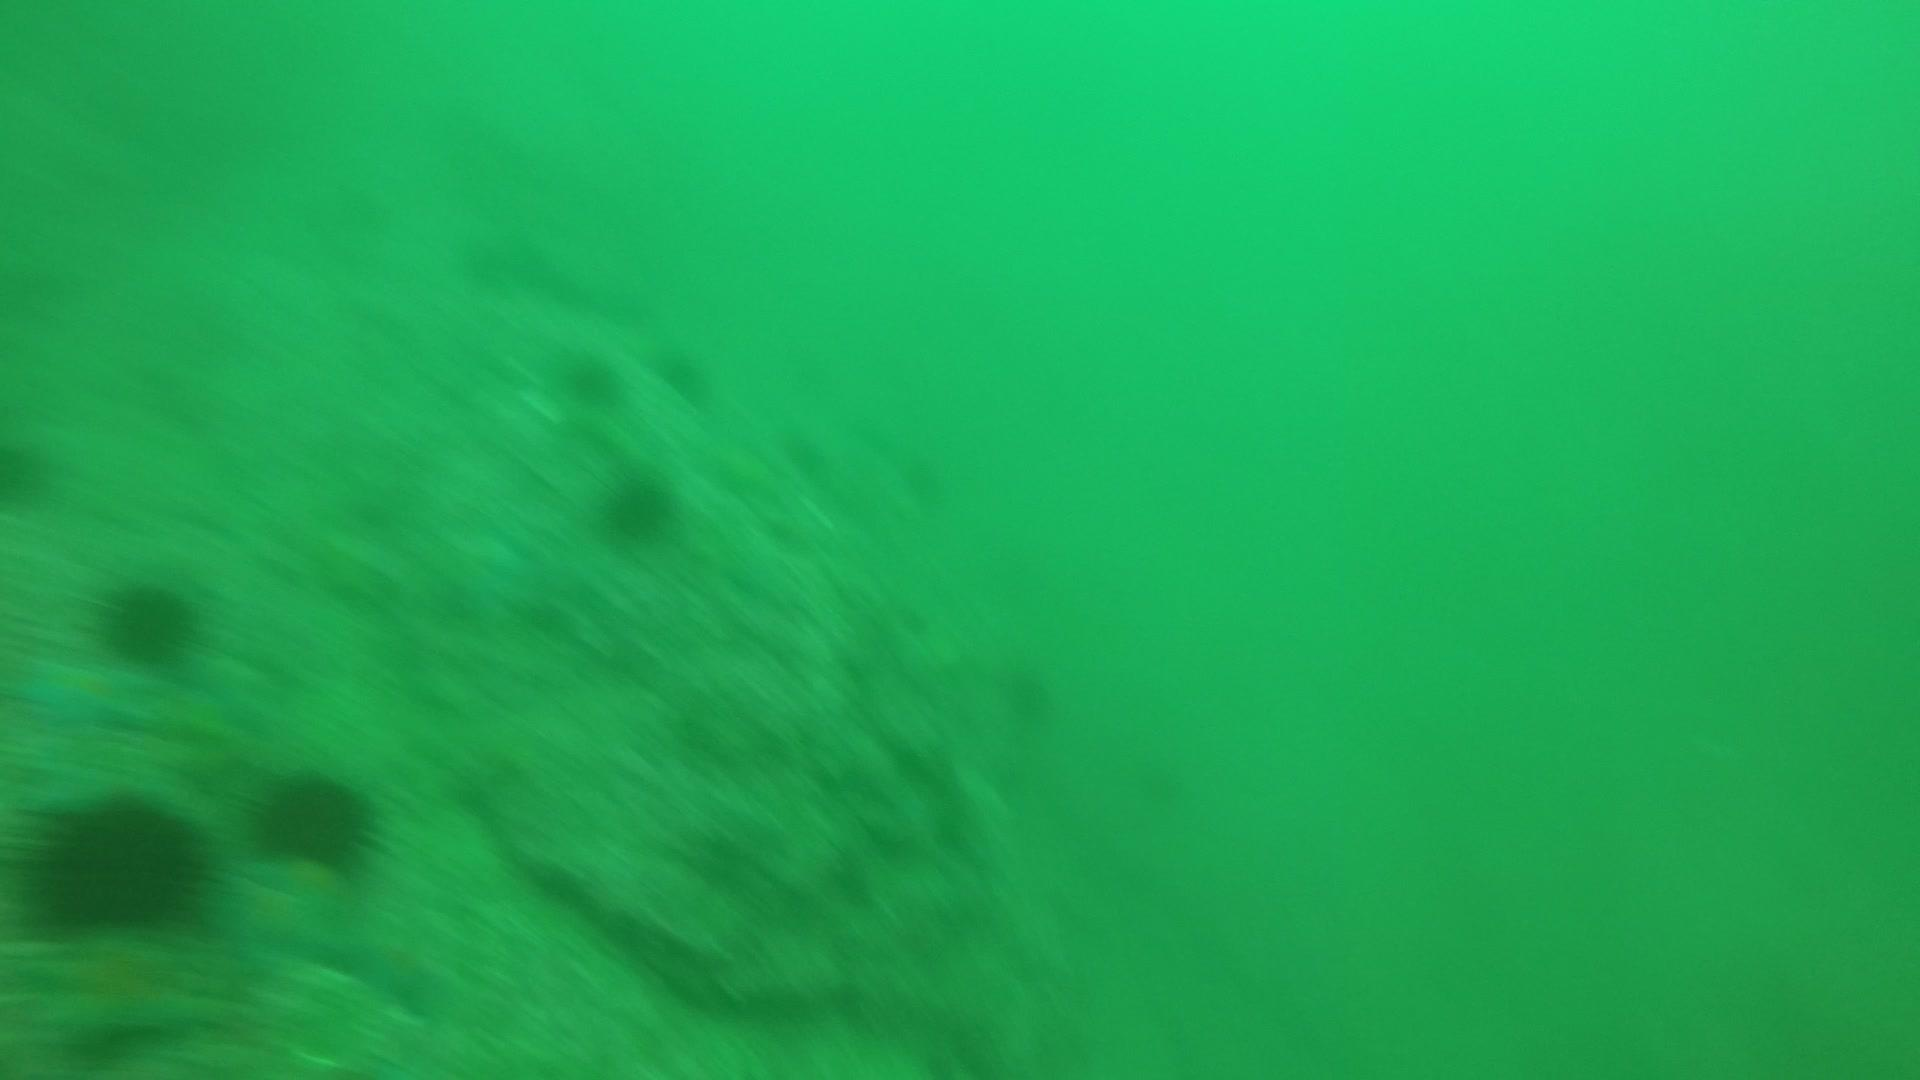echinus: (17, 787, 215, 938), (247, 764, 382, 874), (94, 572, 204, 671), (593, 465, 682, 546), (0, 429, 61, 514), (553, 344, 626, 409), (996, 657, 1060, 724), (653, 342, 716, 404)
starfish: (11, 924, 224, 1054), (15, 651, 156, 735)
